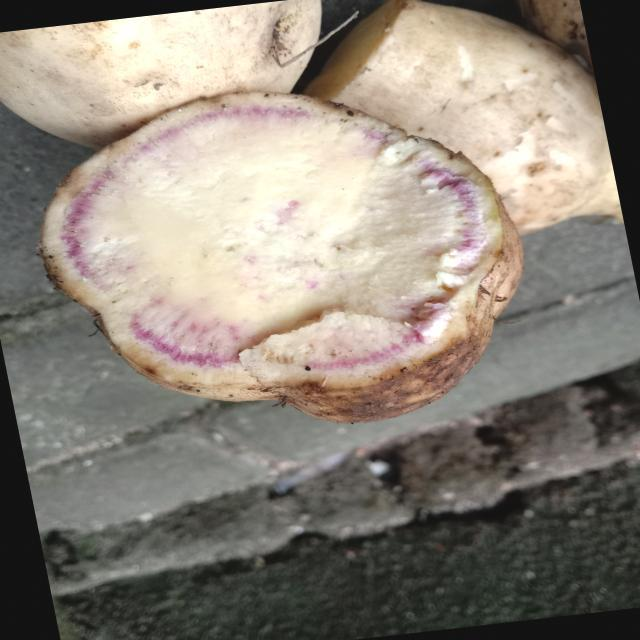Healthy Sweet Potato: (40, 92, 523, 422)
